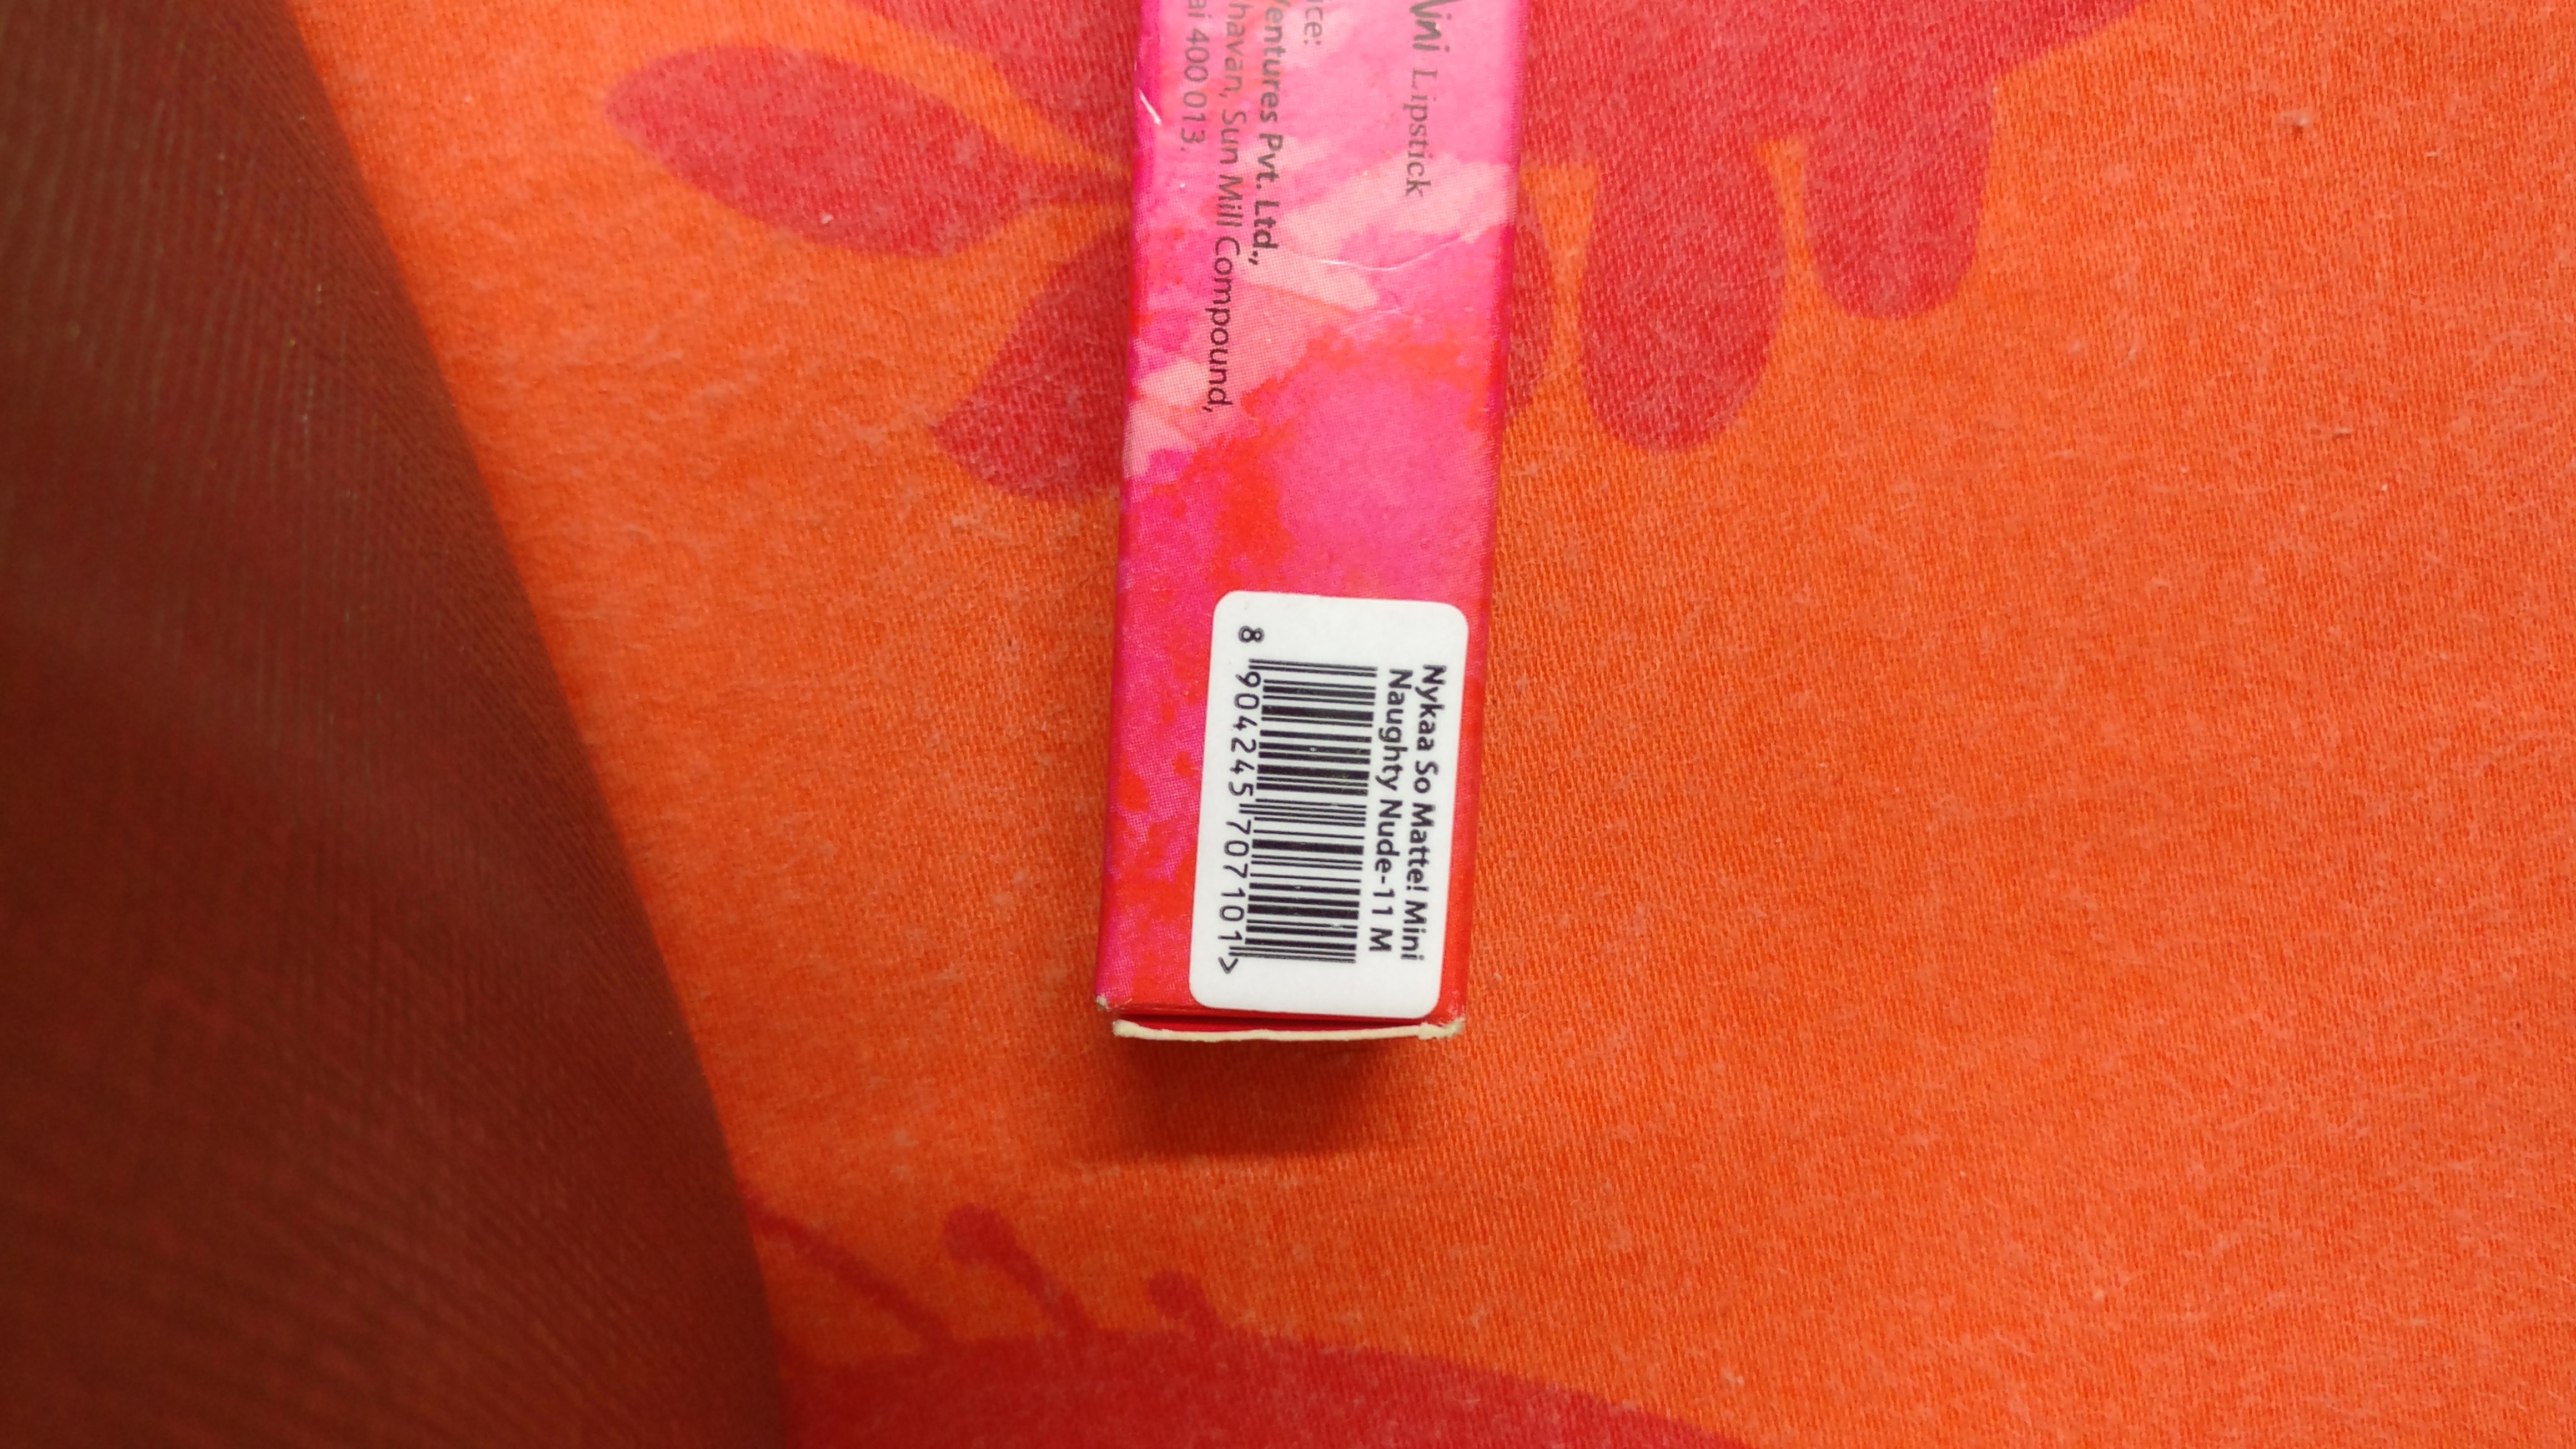barcode: (1221, 607, 1378, 987)
